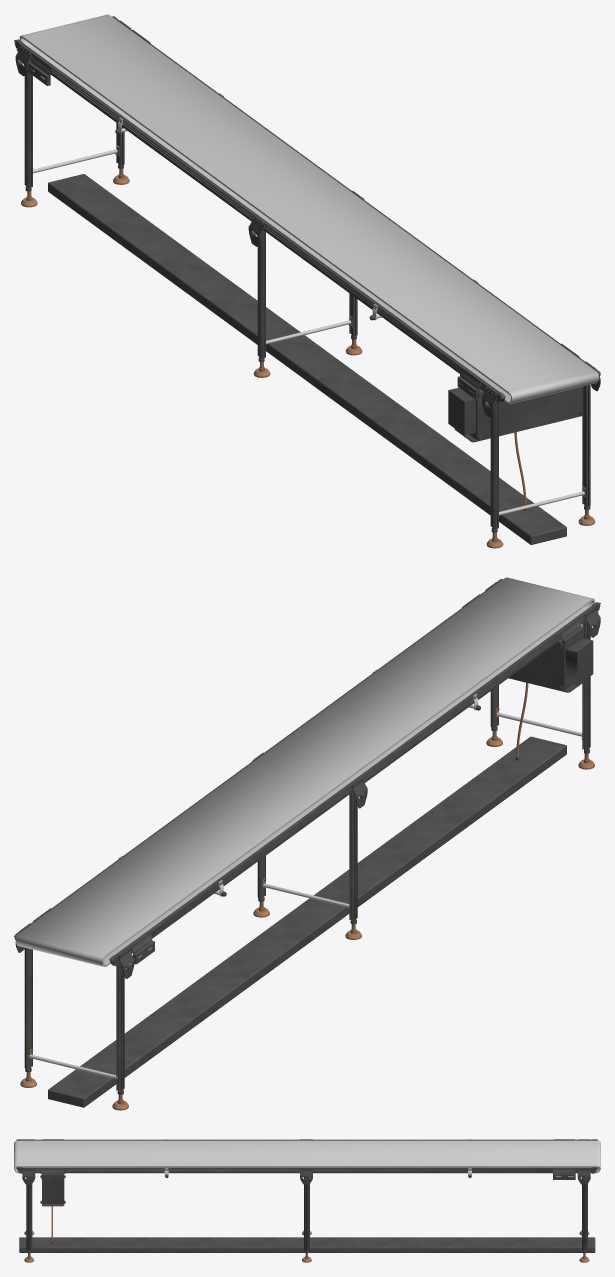
3 renders of one model, top to bottom at view 1: azimuth 30°, elevation 25°; view 2: azimuth 150°, elevation 25°; view 3: azimuth 270°, elevation 25°, orthographic. The views are drawn at different scales.
Visible parts, largest first — view 1: Convenyor Belt.001, Main Beam, Beam_Main.001, Box.001, Arm Support.001, Base Post.001; view 2: Convenyor Belt.001, Main Beam, Beam_Main.001, Box.001, Arm Support.001, Base Post.001; view 3: Convenyor Belt.001, Main Beam, Beam_Main.001, Box.001, Base Post.001.
Part boxes in pixels (x1,y1,x2,y2): Convenyor Belt.001: [19, 14, 599, 404]; Main Beam: [48, 174, 566, 544]; Beam_Main.001: [14, 16, 600, 528]; Box.001: [448, 383, 582, 442]; Arm Support.001: [33, 149, 584, 515]; Base Post.001: [21, 169, 595, 548]; Convenyor Belt.001: [15, 577, 594, 966]; Main Beam: [48, 736, 566, 1107]; Beam_Main.001: [14, 579, 600, 1091]; Box.001: [508, 633, 593, 692]; Arm Support.001: [27, 712, 582, 1079]; Base Post.001: [20, 731, 594, 1110]; Convenyor Belt.001: [14, 1140, 600, 1173]; Main Beam: [19, 1237, 595, 1252]; Beam_Main.001: [16, 1139, 598, 1250]; Box.001: [40, 1173, 65, 1206]; Base Post.001: [24, 1230, 589, 1262].
Bounding box in the file's own units: 66.73 × 83.13 × 464.
